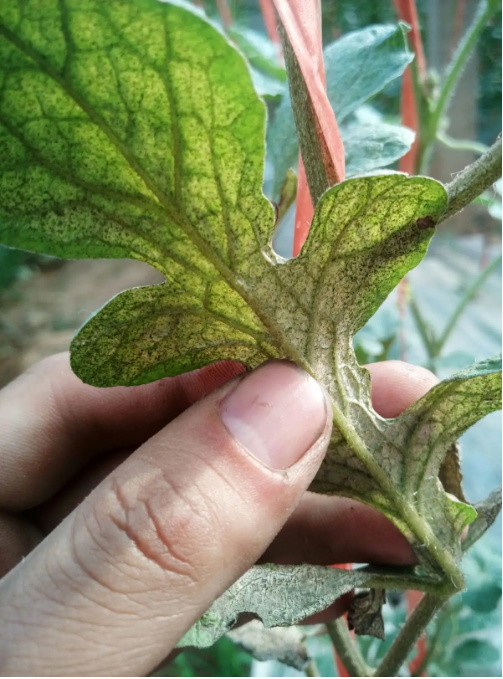thrips: (3, 3, 503, 592)
